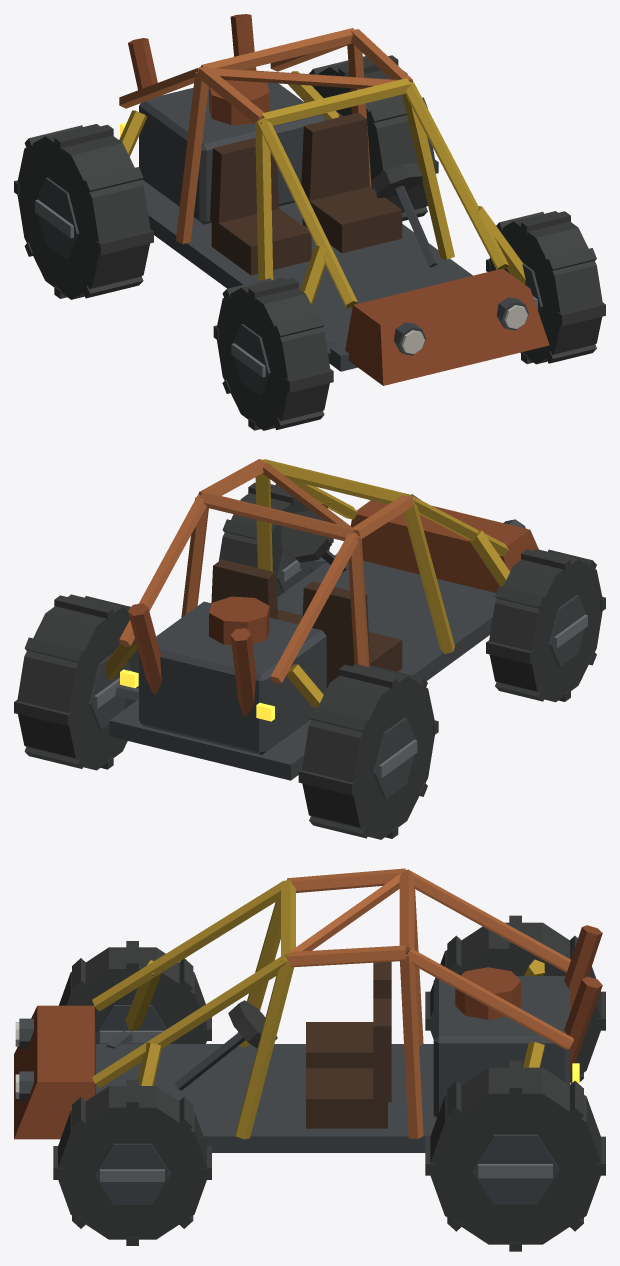
File: vehicle_buggy.glb
The picture shows the model from 3 angles, top to bottom: view 1: azimuth 30°, elevation 25°; view 2: azimuth 150°, elevation 25°; view 3: azimuth 270°, elevation 25°; orthographic projection. The views are drawn at different scales.
Parts seen in each view (by area): view 1: body, wheel_rr, wheel_fr, wheel_fl, wheel_rl; view 2: body, wheel_rr, wheel_rl, wheel_fr, wheel_fl; view 3: body, wheel_rl, wheel_fl, wheel_fr, wheel_rr.
Part boxes in pixels (box(x1,y1,x2,y2)): body: box(119, 14, 549, 385); wheel_rr: box(14, 124, 153, 299); wheel_fr: box(213, 277, 333, 430); wheel_fl: box(486, 211, 605, 364); wheel_rl: box(304, 55, 438, 221); body: box(105, 459, 538, 780); wheel_rr: box(298, 664, 438, 839); wheel_rl: box(14, 594, 138, 770); wheel_fr: box(486, 549, 605, 702); wheel_fl: box(219, 482, 333, 596); body: box(14, 868, 602, 1152); wheel_rl: box(425, 1060, 605, 1251); wheel_fl: box(53, 1079, 211, 1245); wheel_fr: box(59, 941, 211, 1043); wheel_rr: box(425, 915, 605, 1083).
Bounding box in the file's own units: 2.29 × 1.56 × 3.24.
